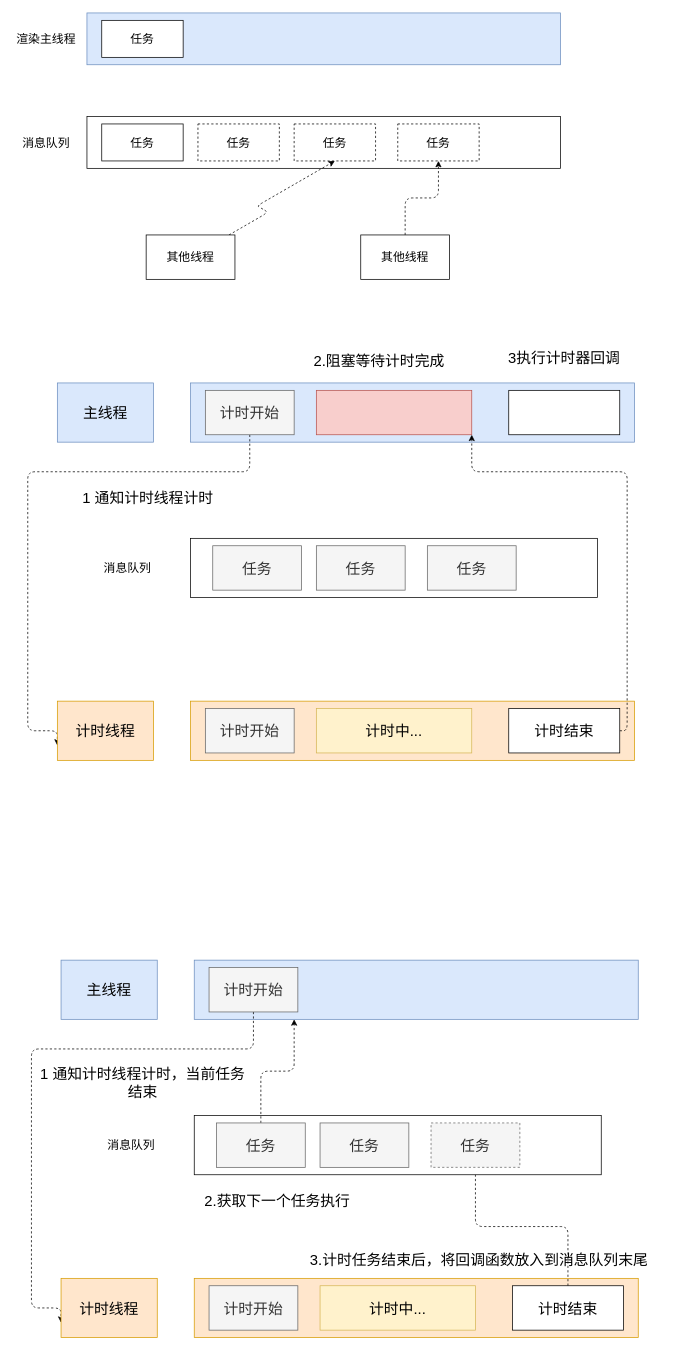
This 691x1351 diagram has some shape labels left out. The box of each missing label's shape, as (x1, y1, x2, y2) in pixels:
运行到期任务: (508, 390, 620, 435)
阻塞: (316, 390, 472, 435)
